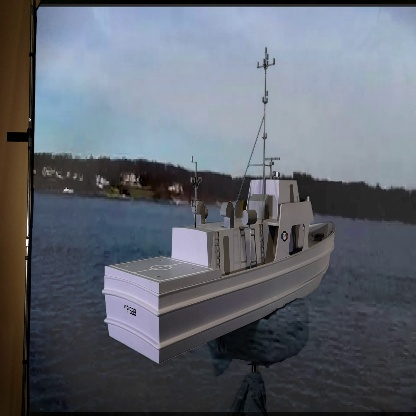YP689: (105, 46, 336, 372)
